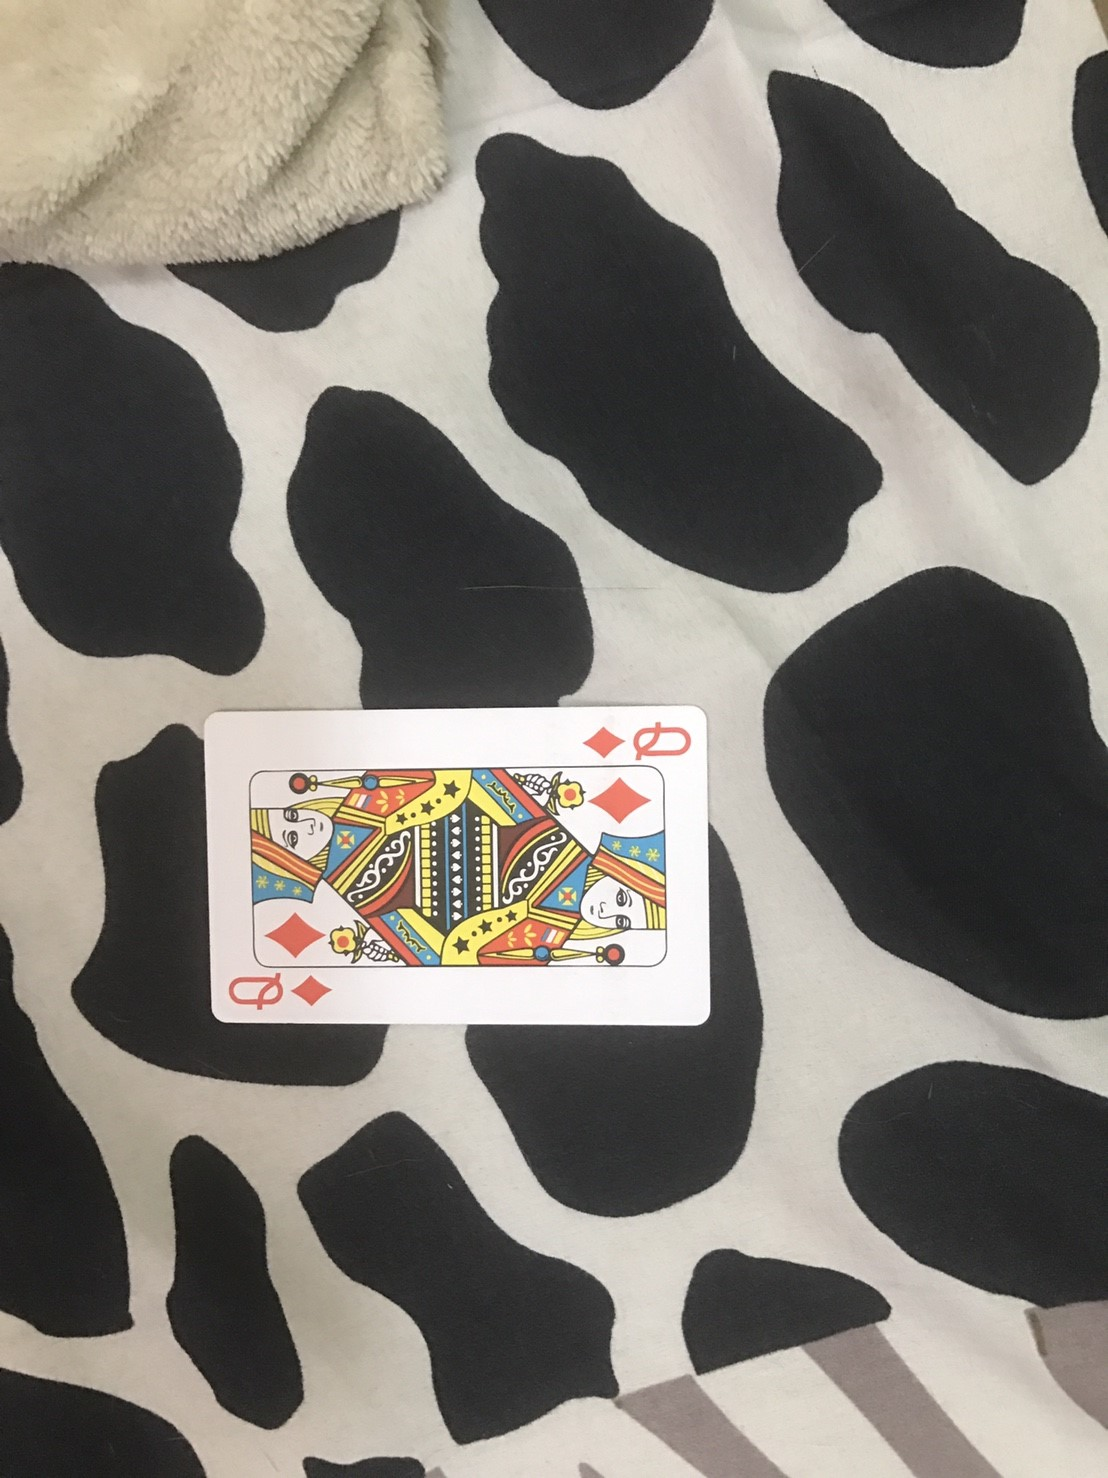diamonds: (261, 907, 327, 957), (589, 779, 653, 824), (291, 973, 332, 1012), (580, 723, 622, 761)
